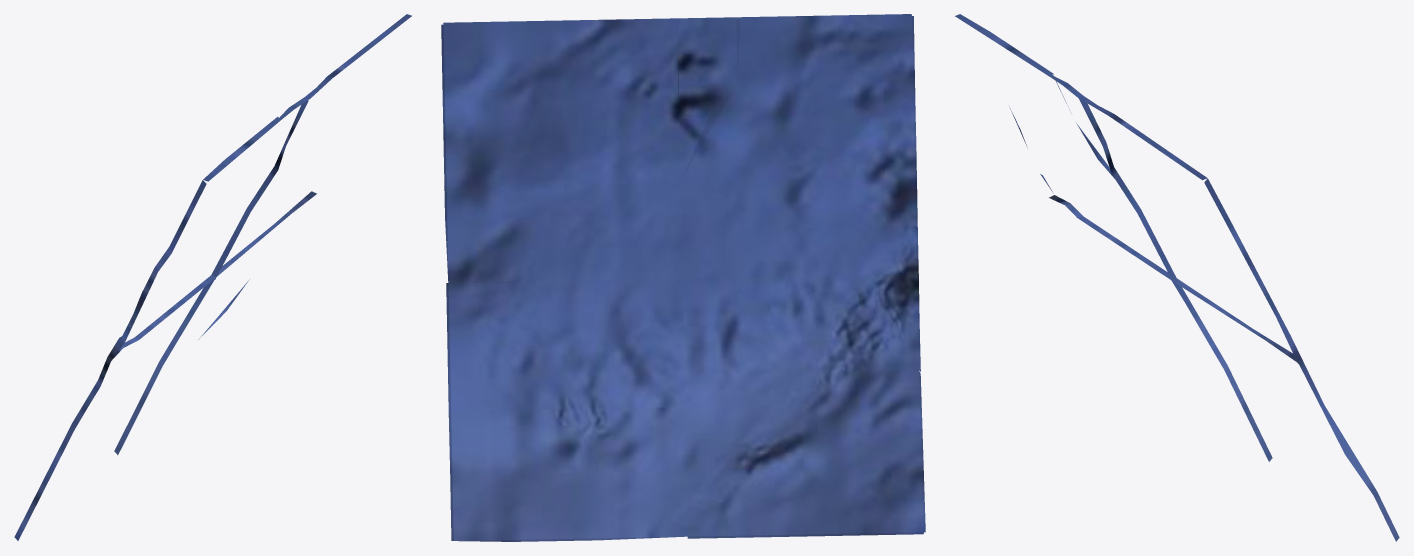
The picture shows the model from 3 angles, left to right: view 1: azimuth 30°, elevation 25°; view 2: azimuth 150°, elevation 25°; view 3: azimuth 270°, elevation 25°; orthographic projection. The views are drawn at different scales.
Bounding box in the file's own units: 39653 × 35798 × 34405.
1 material, 1 textured.
